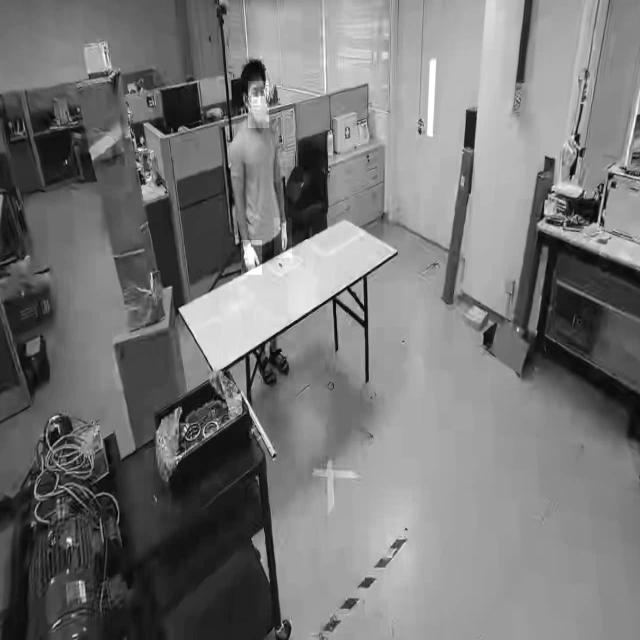face_mask: (248, 81, 269, 128)
hand_glove: (240, 240, 262, 276), (274, 218, 292, 258)
head_nohelmet: (240, 58, 266, 81)
person: (222, 60, 286, 268)
